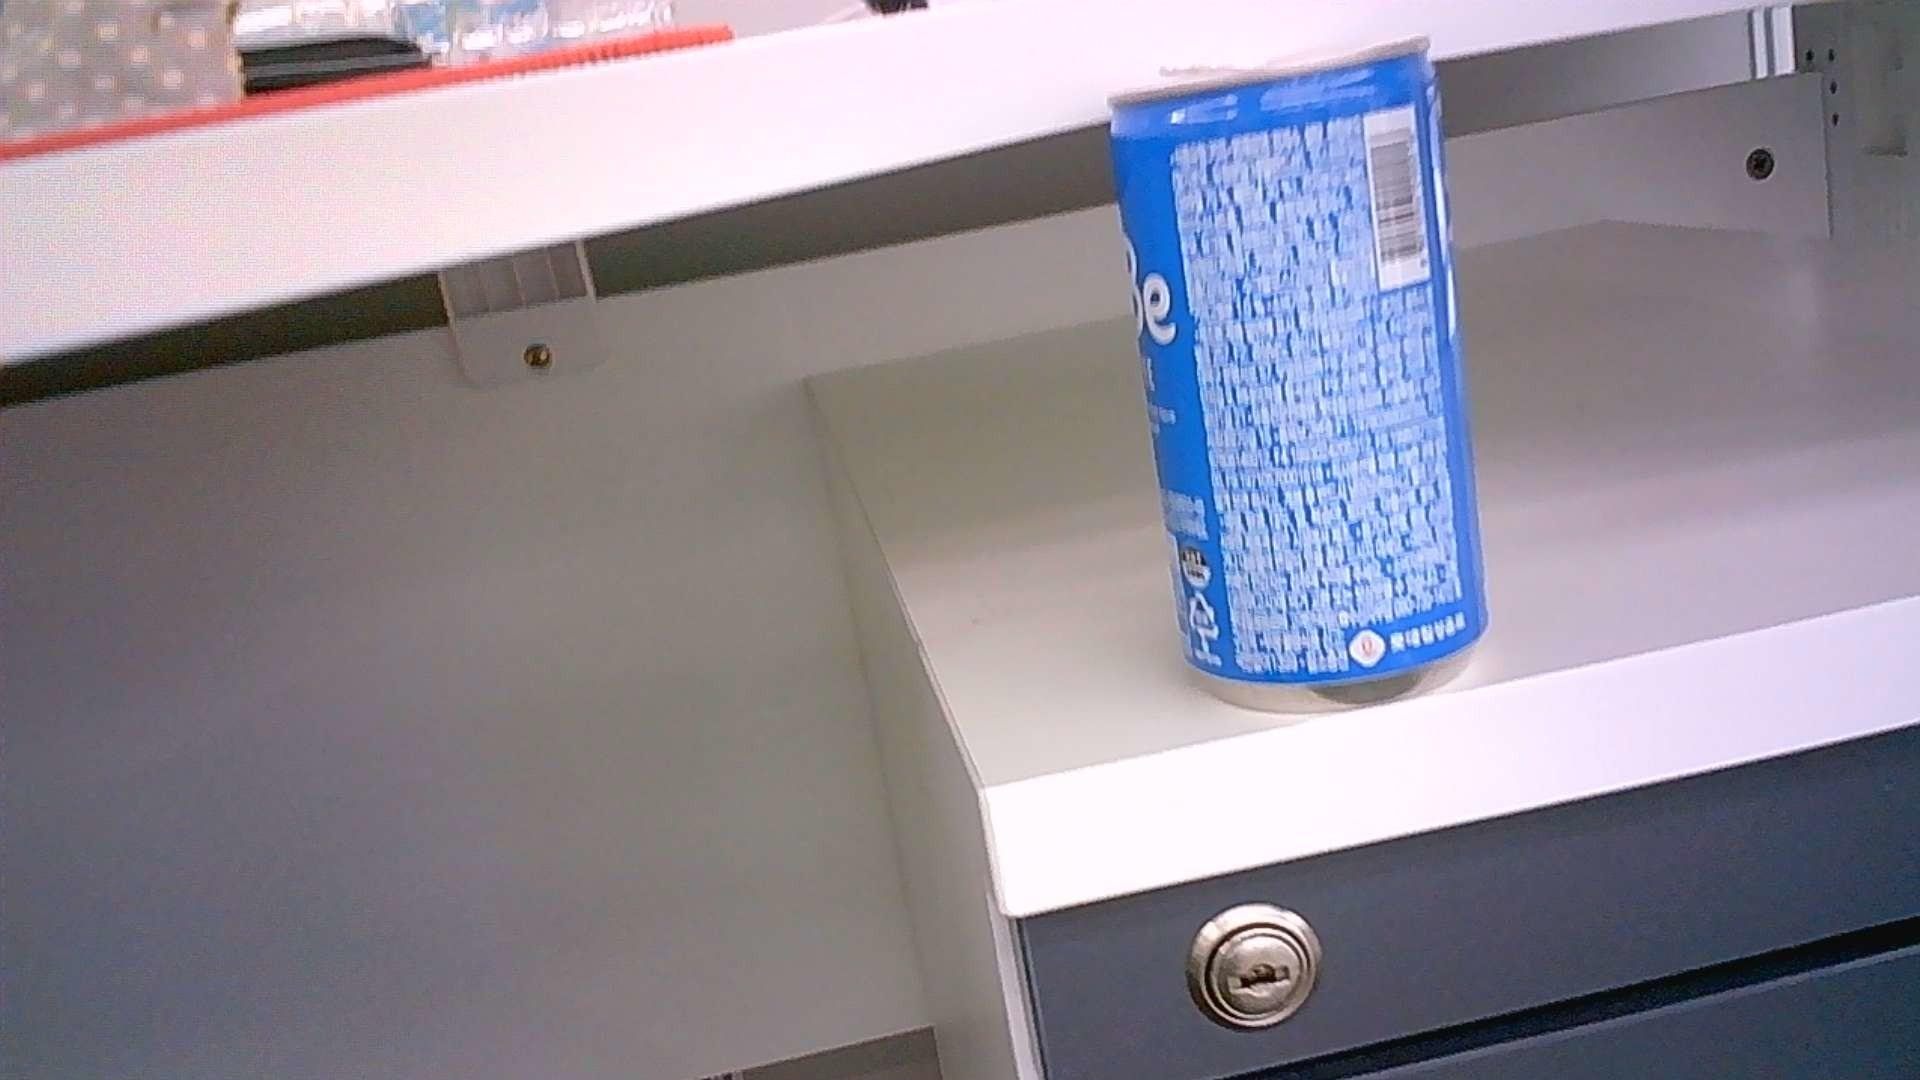letsbe: (1104, 33, 1491, 715)
